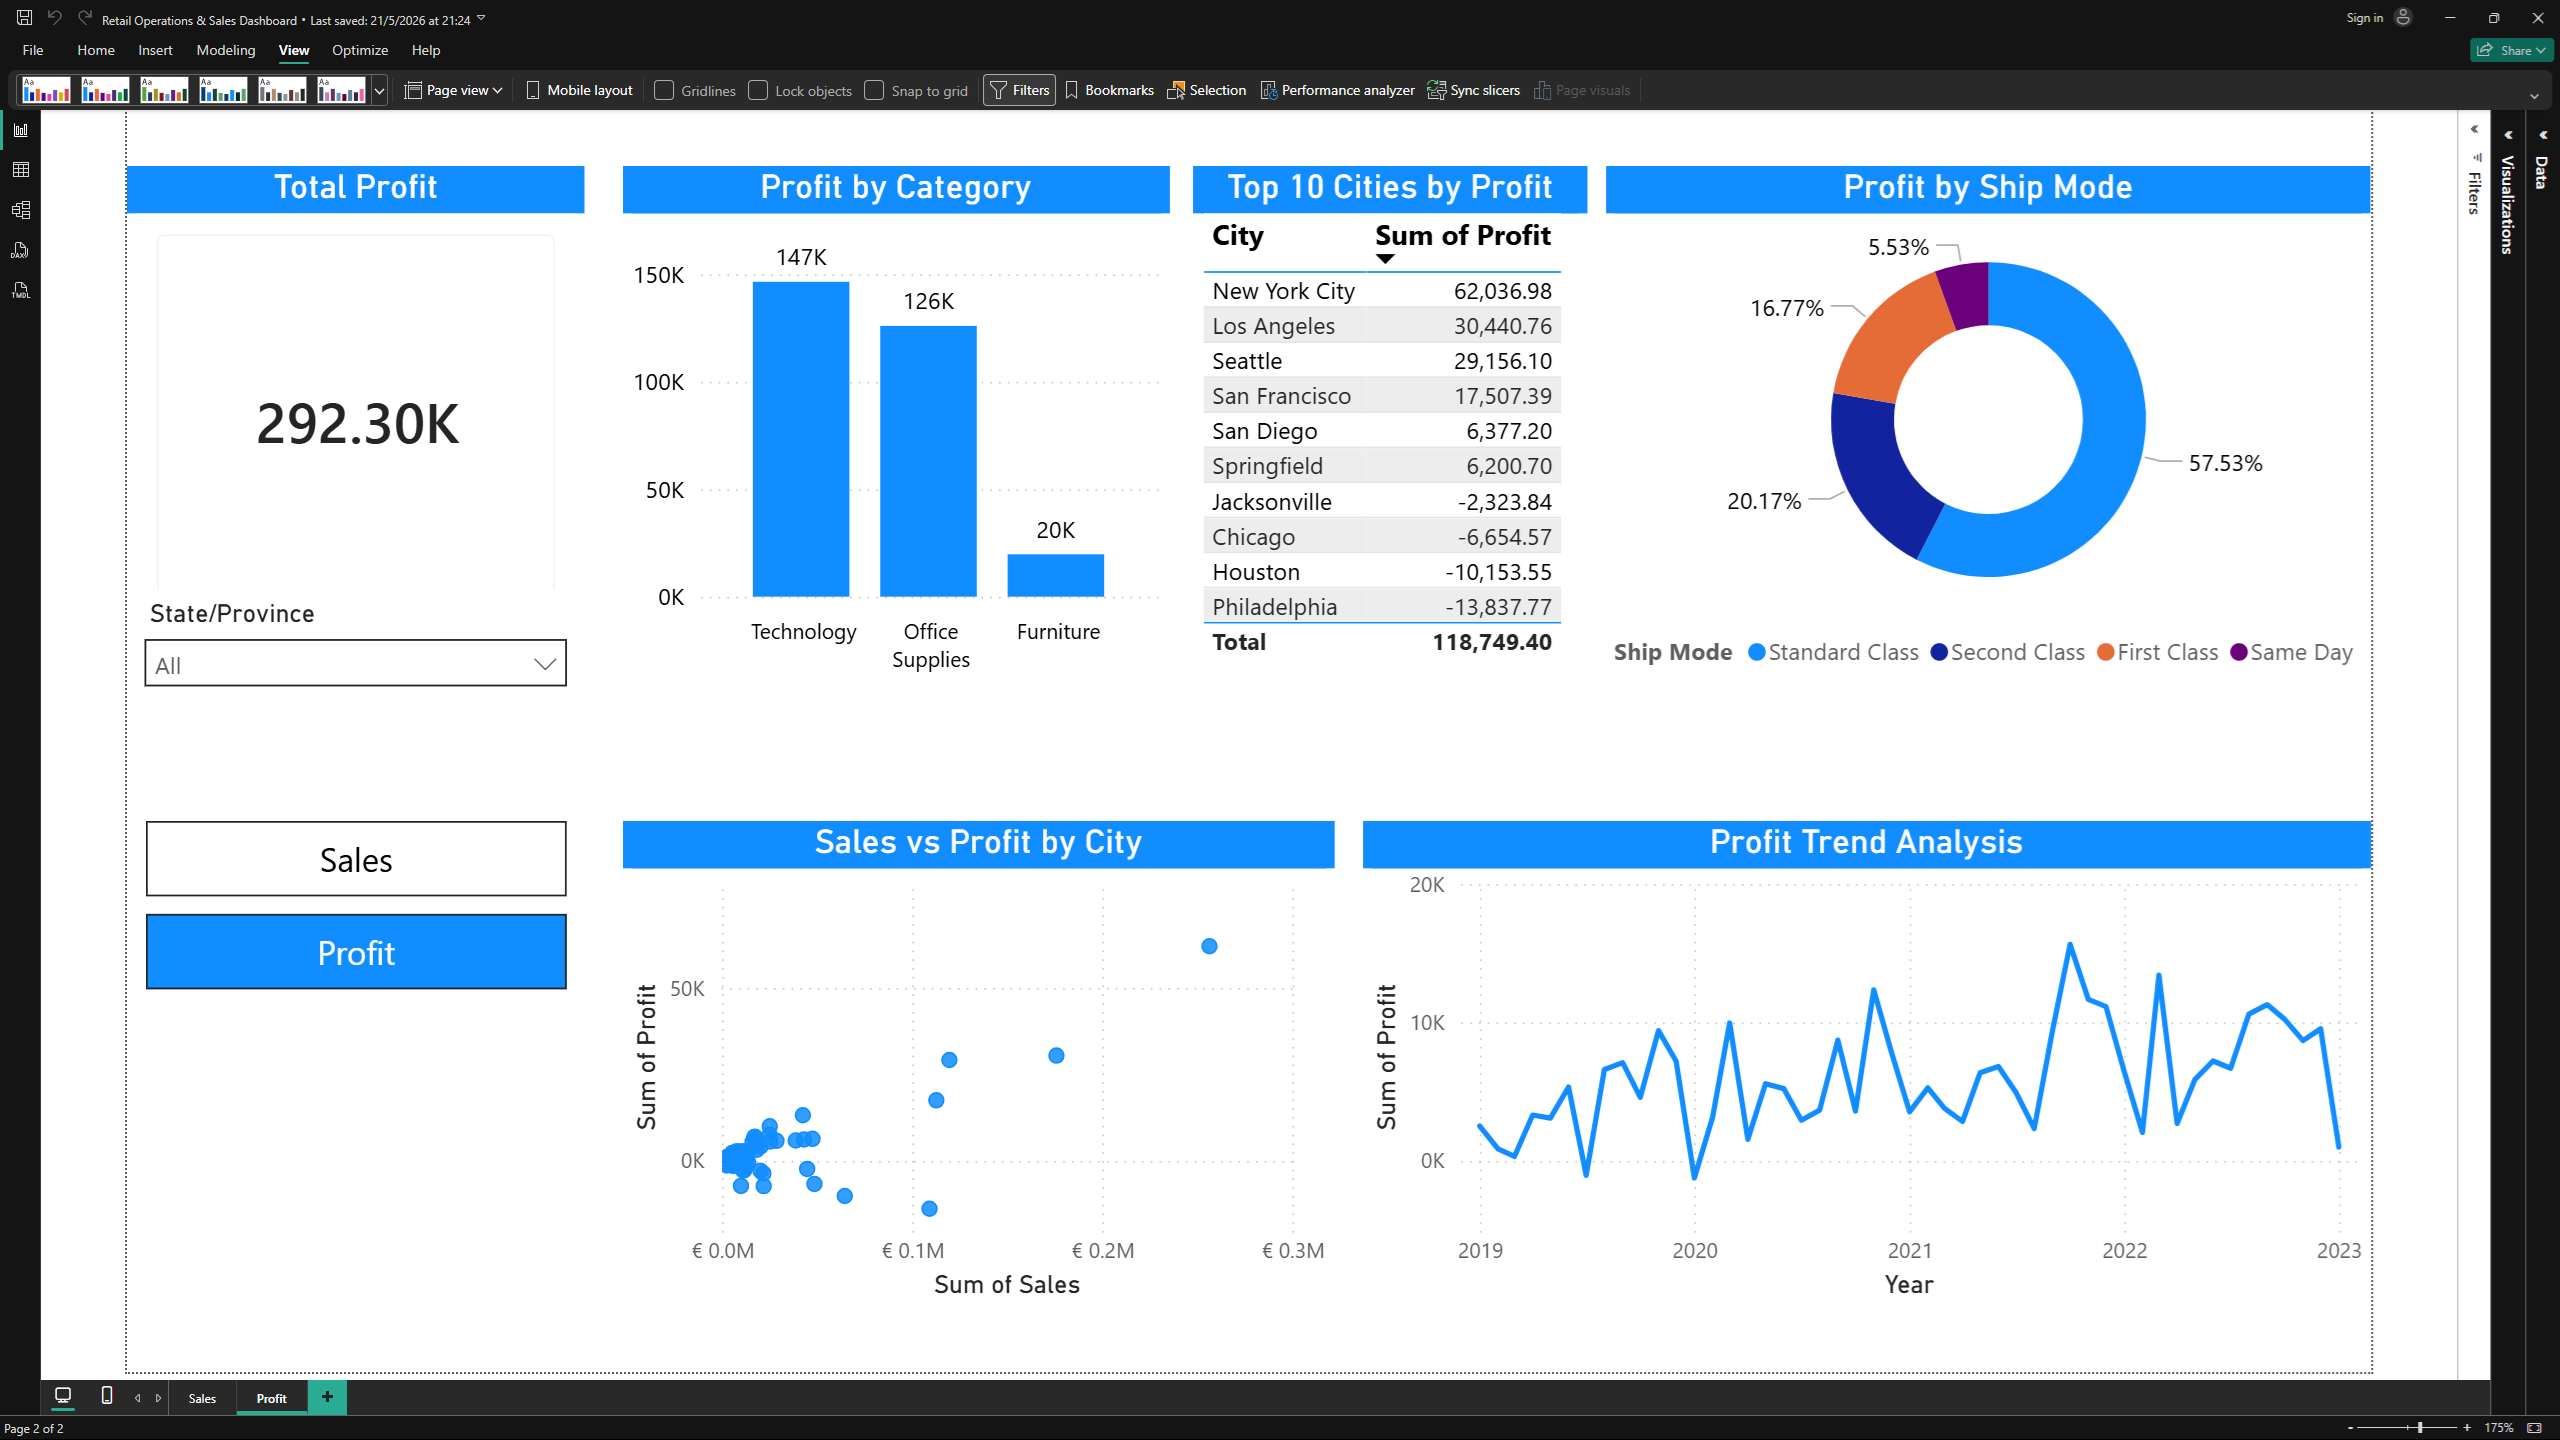

What the dashboard file says about the page in this screenshot:
{"tool":"powerbi","page":{"name":"Profit","canvas":[1280,720],"ordinal":1},"visuals":[{"type":"donutChart","title":"Profit by Ship Mode","fields":{"Category":["Raw_Data.Ship Mode"],"Y":["Sum(Raw_Data.Profit)"]},"box":[843.7,31.9,436.3,296.4],"z":0},{"type":"clusteredColumnChart","title":"Profit by Category","fields":{"Category":["Raw_Data.Category"],"Y":["Sum(Raw_Data.Profit)"]},"box":[282.8,31.9,311.6,296.4],"z":1000},{"type":"tableEx","title":"Top 10 Cities by Profit","fields":{"Values":["Raw_Data.City","Sum(Raw_Data.Profit)"]},"box":[608.1,31.9,225,296.4],"z":2000},{"type":"lineChart","title":"Profit Trend Analysis","fields":{"Category":["Raw_Data.Ship Date.Variation.Date Hierarchy.Year","Raw_Data.Ship Date.Variation.Date Hierarchy.Quarter","Raw_Data.Ship Date.Variation.Date Hierarchy.Month","Raw_Data.Ship Date.Variation.Date Hierarchy.Day"],"Y":["Sum(Raw_Data.Profit)"]},"box":[705.4,405.9,574.6,276.7],"z":3000},{"type":"scatterChart","title":"Sales vs Profit by City","fields":{"Category":["Raw_Data.City"],"X":["Sum(Raw_Data.Sales)"],"Y":["Sum(Raw_Data.Profit)"]},"box":[282.8,405.9,405.9,276.7],"z":4000},{"type":"cardVisual","title":"Total Profit","fields":{"Data":["Sum(Raw_Data.Profit)"]},"box":[0,31.9,261.5,263],"z":5000},{"type":"slicer","fields":{"Values":["Raw_Data.State/Province"]},"box":[0,273.6,261.5,86.7],"z":6000},{"type":"pageNavigator","box":[10.6,405.9,240.2,97.3],"z":7000}]}

Visuals, with their boxes on the page's 1280x720 design canvas (x1, y1, x2, y2). These are canvas units, not pixel positions in the 2560x1440 screenshot, which may show the page scaled, cropped or inside an application window:
"Profit by Ship Mode" donutChart: bbox(844, 32, 1280, 328)
"Profit by Category" clusteredColumnChart: bbox(283, 32, 594, 328)
"Top 10 Cities by Profit" tableEx: bbox(608, 32, 833, 328)
"Profit Trend Analysis" lineChart: bbox(705, 406, 1280, 683)
"Sales vs Profit by City" scatterChart: bbox(283, 406, 689, 683)
"Total Profit" cardVisual: bbox(0, 32, 262, 295)
slicer - Raw_Data.State/Province: bbox(0, 274, 262, 360)
pageNavigator: bbox(11, 406, 251, 503)
